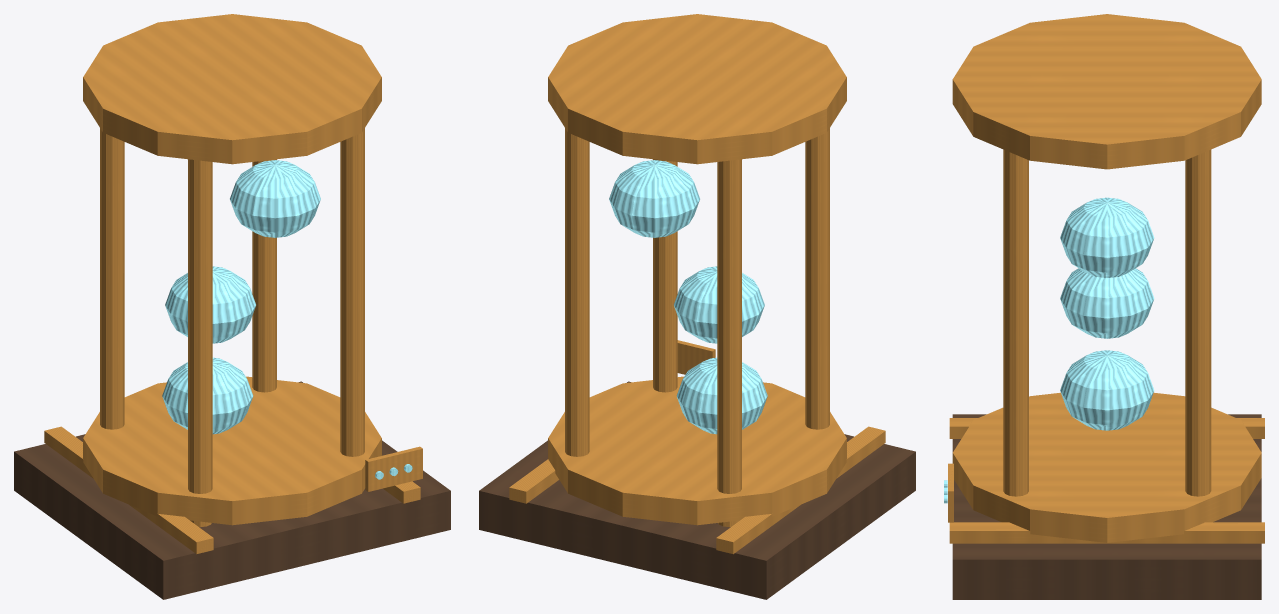
Rendered from atlas100-s014-a01.glb.
3 views of the same model, side by side, from view 1: azimuth 30°, elevation 25°; view 2: azimuth 150°, elevation 25°; view 3: azimuth 270°, elevation 25° (orthographic). The views are drawn at different scales.
Parts seen in each view (by area): view 1: atlas100-s014-a01:part-004, atlas100-s014-a01:part-003, atlas100-s014-a01:part-000, atlas100-s014-a01:part-007, atlas100-s014-a01:part-005, atlas100-s014-a01:part-009, atlas100-s014-a01:part-015, atlas100-s014-a01:part-011, atlas100-s014-a01:part-014, atlas100-s014-a01:part-013, atlas100-s014-a01:part-001, atlas100-s014-a01:part-016; view 2: atlas100-s014-a01:part-004, atlas100-s014-a01:part-003, atlas100-s014-a01:part-000, atlas100-s014-a01:part-009, atlas100-s014-a01:part-011, atlas100-s014-a01:part-007, atlas100-s014-a01:part-015, atlas100-s014-a01:part-005, atlas100-s014-a01:part-014, atlas100-s014-a01:part-013, atlas100-s014-a01:part-001, atlas100-s014-a01:part-002 (+1 smaller); view 3: atlas100-s014-a01:part-004, atlas100-s014-a01:part-003, atlas100-s014-a01:part-000, atlas100-s014-a01:part-011, atlas100-s014-a01:part-005, atlas100-s014-a01:part-013, atlas100-s014-a01:part-015, atlas100-s014-a01:part-014, atlas100-s014-a01:part-002, atlas100-s014-a01:part-001.
Boxes of the visible parts, bbox=[...] form: atlas100-s014-a01:part-004: bbox=[83, 14, 381, 164]; atlas100-s014-a01:part-003: bbox=[83, 376, 381, 525]; atlas100-s014-a01:part-000: bbox=[14, 381, 450, 599]; atlas100-s014-a01:part-007: bbox=[188, 159, 212, 527]; atlas100-s014-a01:part-005: bbox=[340, 128, 364, 456]; atlas100-s014-a01:part-009: bbox=[100, 128, 124, 429]; atlas100-s014-a01:part-015: bbox=[230, 160, 320, 237]; atlas100-s014-a01:part-011: bbox=[252, 159, 276, 392]; atlas100-s014-a01:part-014: bbox=[165, 266, 255, 343]; atlas100-s014-a01:part-013: bbox=[162, 357, 253, 434]; atlas100-s014-a01:part-001: bbox=[44, 426, 213, 554]; atlas100-s014-a01:part-016: bbox=[365, 446, 422, 491]; atlas100-s014-a01:part-004: bbox=[548, 14, 846, 164]; atlas100-s014-a01:part-003: bbox=[548, 376, 846, 525]; atlas100-s014-a01:part-000: bbox=[479, 381, 915, 599]; atlas100-s014-a01:part-009: bbox=[717, 159, 741, 527]; atlas100-s014-a01:part-011: bbox=[565, 128, 589, 456]; atlas100-s014-a01:part-007: bbox=[805, 128, 829, 429]; atlas100-s014-a01:part-015: bbox=[609, 160, 699, 237]; atlas100-s014-a01:part-005: bbox=[653, 159, 677, 392]; atlas100-s014-a01:part-014: bbox=[674, 266, 764, 343]; atlas100-s014-a01:part-013: bbox=[676, 357, 767, 434]; atlas100-s014-a01:part-001: bbox=[716, 426, 885, 554]; atlas100-s014-a01:part-002: bbox=[509, 459, 558, 503]; atlas100-s014-a01:part-004: bbox=[952, 14, 1261, 169]; atlas100-s014-a01:part-003: bbox=[952, 392, 1261, 542]; atlas100-s014-a01:part-000: bbox=[952, 414, 1261, 599]; atlas100-s014-a01:part-011: bbox=[1185, 149, 1211, 496]; atlas100-s014-a01:part-005: bbox=[1003, 149, 1028, 496]; atlas100-s014-a01:part-013: bbox=[1060, 350, 1154, 430]; atlas100-s014-a01:part-015: bbox=[1060, 197, 1154, 277]; atlas100-s014-a01:part-014: bbox=[1060, 268, 1154, 338]; atlas100-s014-a01:part-002: bbox=[949, 522, 1264, 543]; atlas100-s014-a01:part-001: bbox=[949, 418, 1264, 438].
Size of the model in its own units: 2 by 2.88 by 1.87.
3 materials, 3 textured.
